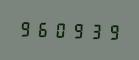nine: (69, 19, 85, 40), (17, 18, 33, 38), (103, 21, 119, 41)
six: (34, 18, 50, 39)
three: (86, 20, 102, 41)
zero: (52, 19, 68, 39)
